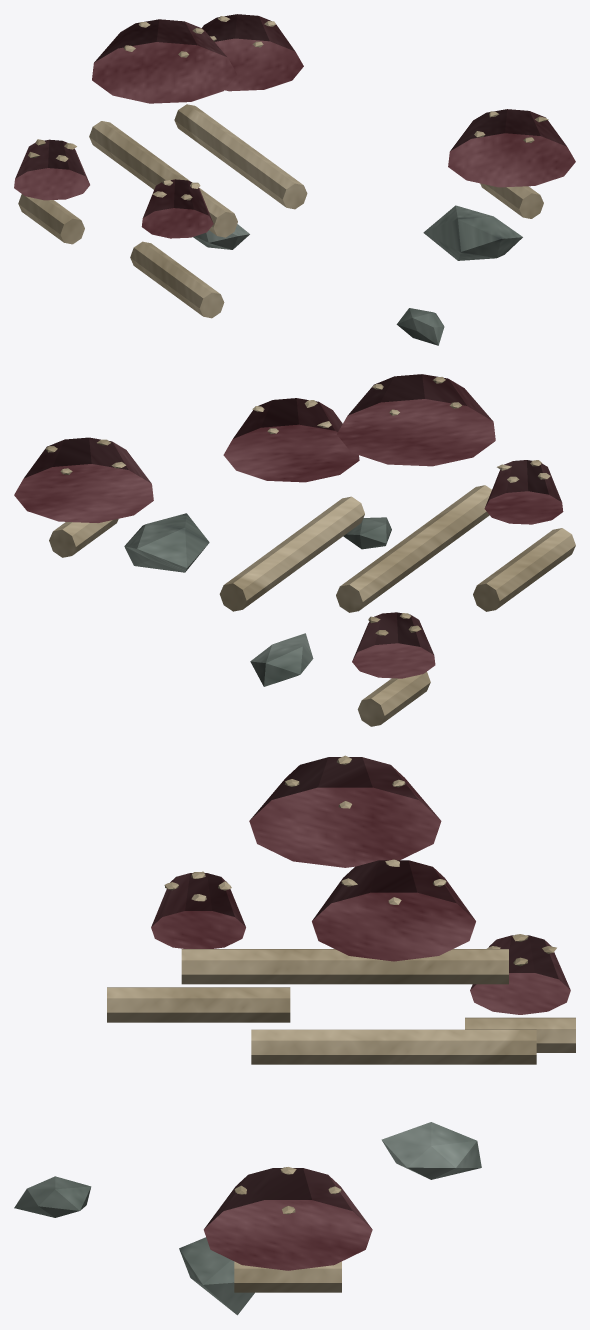
The model's file is 0218_mushroom_patch_18.glb.
3 renders of one model, top to bottom at view 1: azimuth 30°, elevation 25°; view 2: azimuth 150°, elevation 25°; view 3: azimuth 270°, elevation 25°, orthographic. The views are drawn at different scales.
Visible parts, largest first — view 1: cloth, bone, stone; view 2: cloth, bone, stone; view 3: cloth, bone, stone.
Boxes of the visible parts, x1,y1,x2,y2 form: cloth: [14, 14, 575, 238]; bone: [18, 16, 548, 318]; stone: [193, 205, 522, 345]; cloth: [14, 374, 563, 678]; bone: [45, 377, 575, 726]; stone: [124, 513, 391, 686]; cloth: [151, 757, 570, 1270]; bone: [107, 755, 575, 1292]; stone: [14, 1122, 481, 1315].
Bounding box in the file's own units: 2.23 × 1.21 × 1.8.
3 materials, 3 textured.
